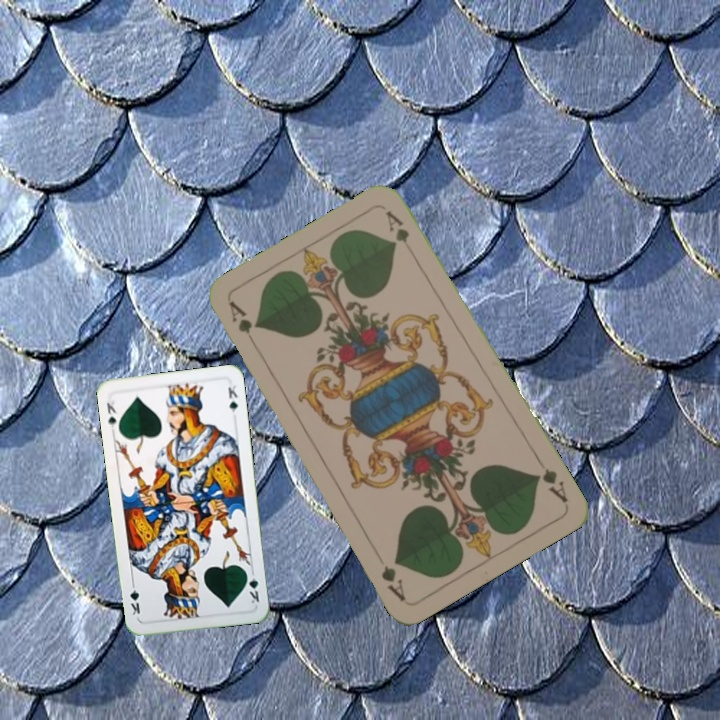GA: (531, 453, 571, 506), (225, 297, 255, 337)
GK: (242, 567, 262, 606), (103, 397, 120, 430)
